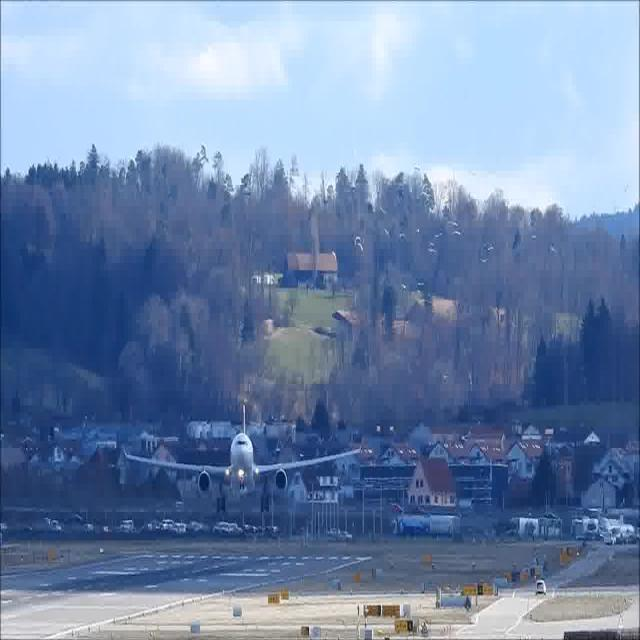bird: (353, 234, 365, 257), (467, 369, 475, 390), (450, 228, 463, 238), (427, 245, 437, 256), (485, 243, 494, 255), (479, 256, 487, 268), (434, 232, 443, 241), (413, 162, 420, 173), (384, 226, 389, 239), (414, 230, 422, 237)
